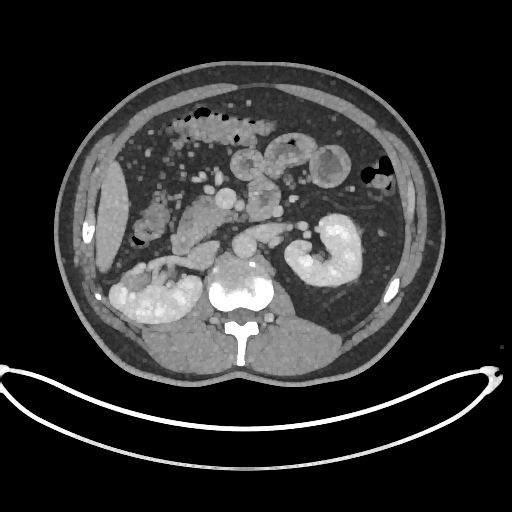Lesion: (120, 268, 153, 294)
